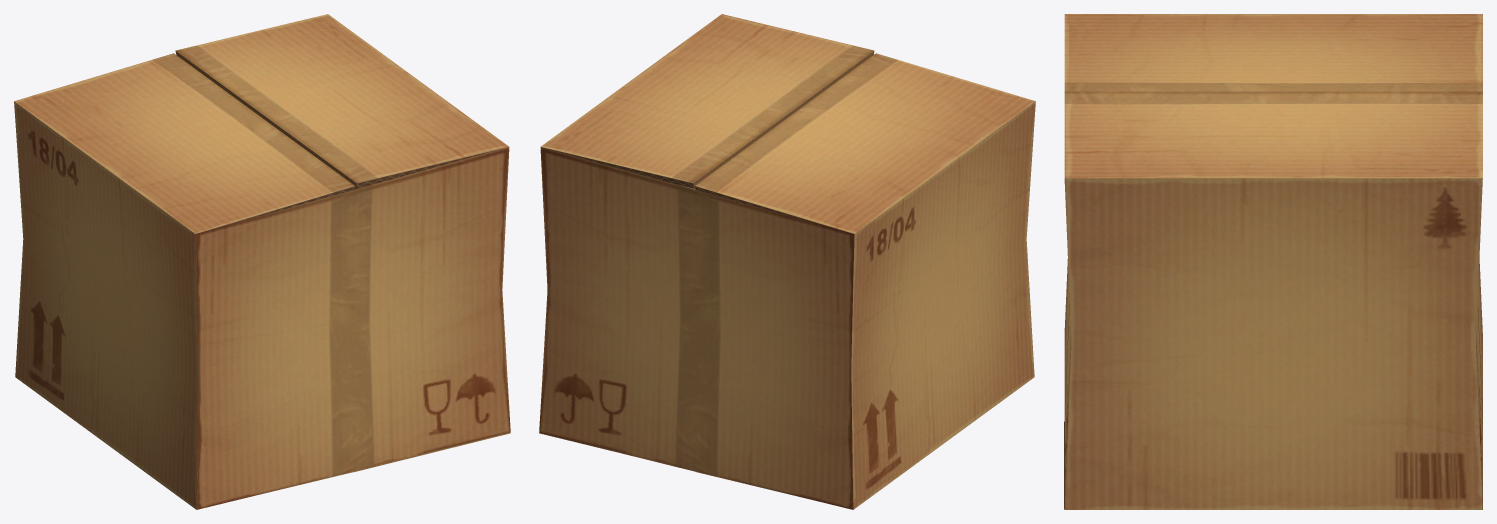
Rendered from box-close.glb.
3 renders of one model, left to right at view 1: azimuth 30°, elevation 25°; view 2: azimuth 150°, elevation 25°; view 3: azimuth 270°, elevation 25°, orthographic. The views are drawn at different scales.
Visible parts, largest first — view 1: box.001_box_m_0; view 2: box.001_box_m_0; view 3: box.001_box_m_0.
Boxes of the visible parts, box(x1,y1,x2,y2) form: box.001_box_m_0: box(14, 14, 510, 509); box.001_box_m_0: box(539, 14, 1035, 509); box.001_box_m_0: box(1064, 14, 1482, 509).
Bounding box in the file's own units: 0.5239 × 0.4573 × 0.5224.
1 material, 1 textured.
